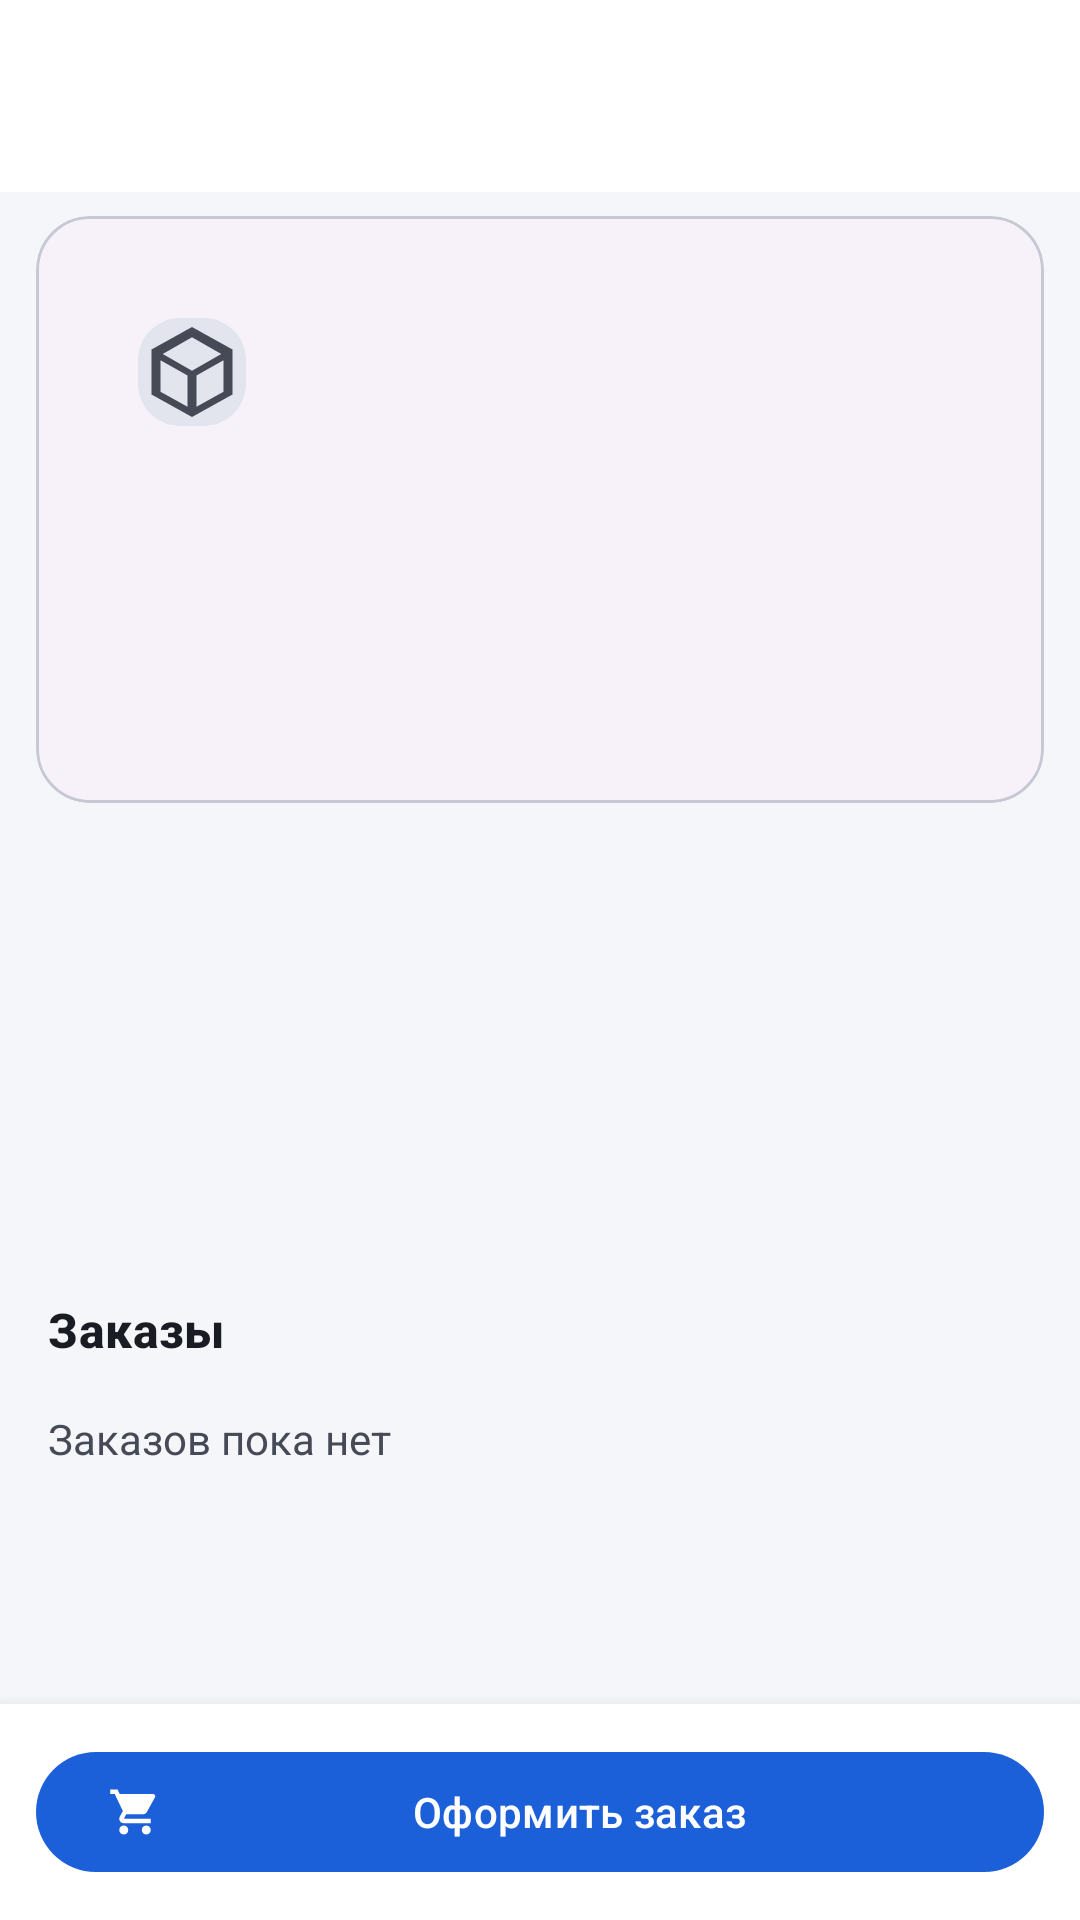

Where icons sit on this 1080 x 1920 app screen, as bbox=(x1, y1, x2, y2):
Карточка товара: bbox=(138, 318, 246, 426)
